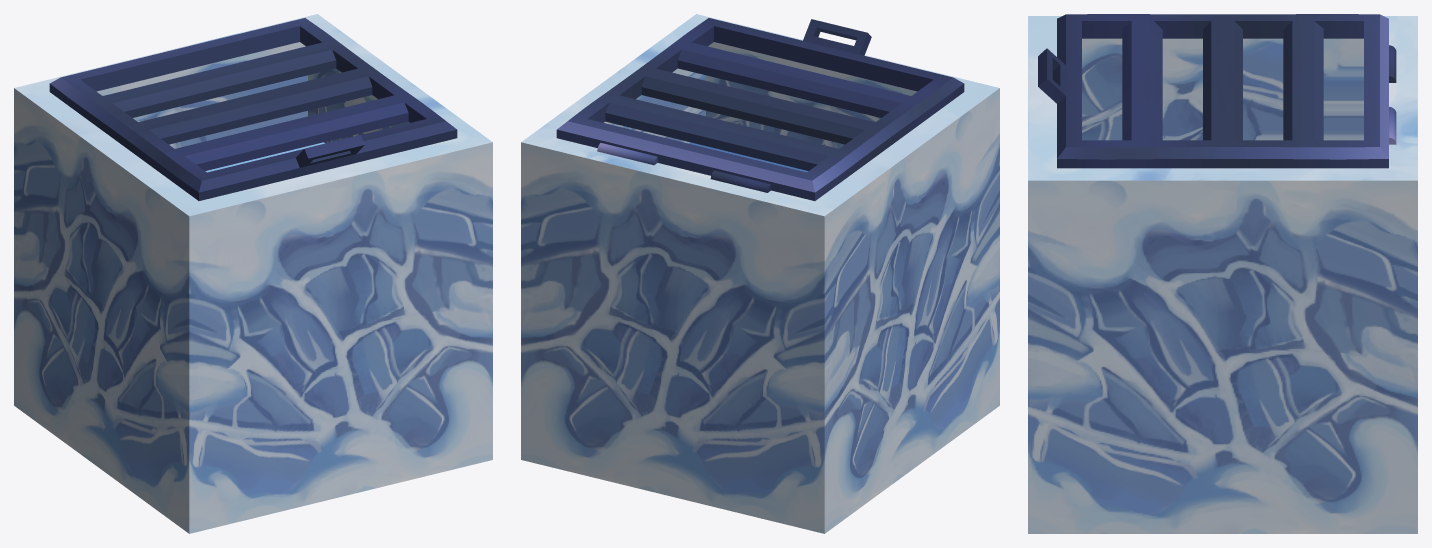
The model's file is freezer.fbx.
3 renders of one model, left to right at view 1: azimuth 30°, elevation 25°; view 2: azimuth 150°, elevation 25°; view 3: azimuth 270°, elevation 25°, orthographic. The views are drawn at different scales.
Visible parts, largest first — view 1: freezerTile, freezerHatch; view 2: freezerTile, freezerHatch; view 3: freezerTile, freezerHatch.
Boxes of the visible parts, x1,y1,x2,y2 form: freezerTile: (14,14,492,533); freezerHatch: (49,18,457,200); freezerTile: (521,14,999,533); freezerHatch: (556,18,964,200); freezerTile: (1028,16,1417,533); freezerHatch: (1038,14,1396,168).
Bounding box in the file's own units: 1 × 1.1 × 1.
